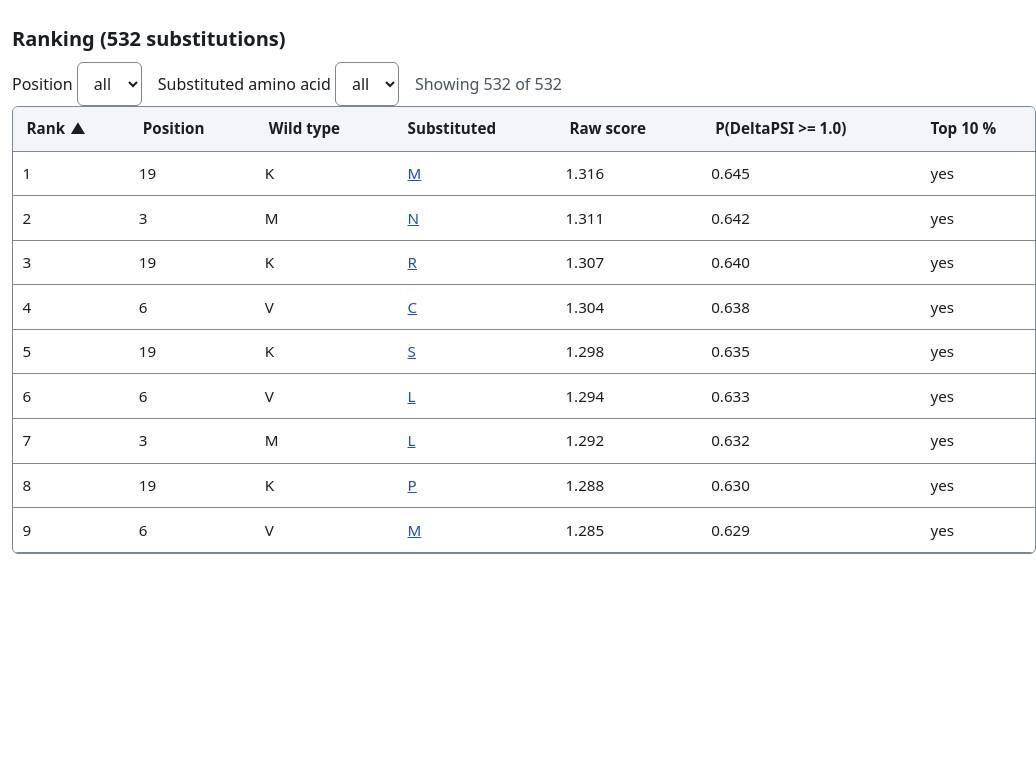
Test: RankTable (FR-07, FR-08; E2E-02) › filters by position and substituted amino acid, and says so when nothing matches
Step 1. Select "14" in the dropdown labelled "Position" → (109, 84), box [77,62,142,106]
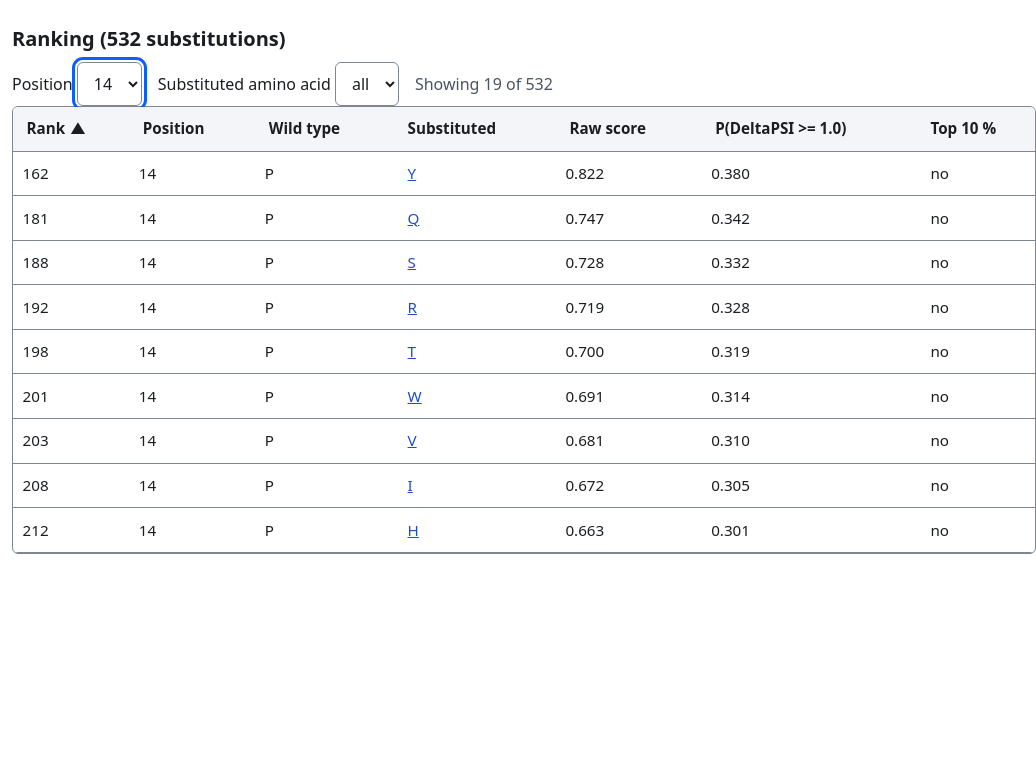
Step 2. Select "W" in the dropdown labelled "Substituted amino acid" → (367, 84), box [335,62,399,106]
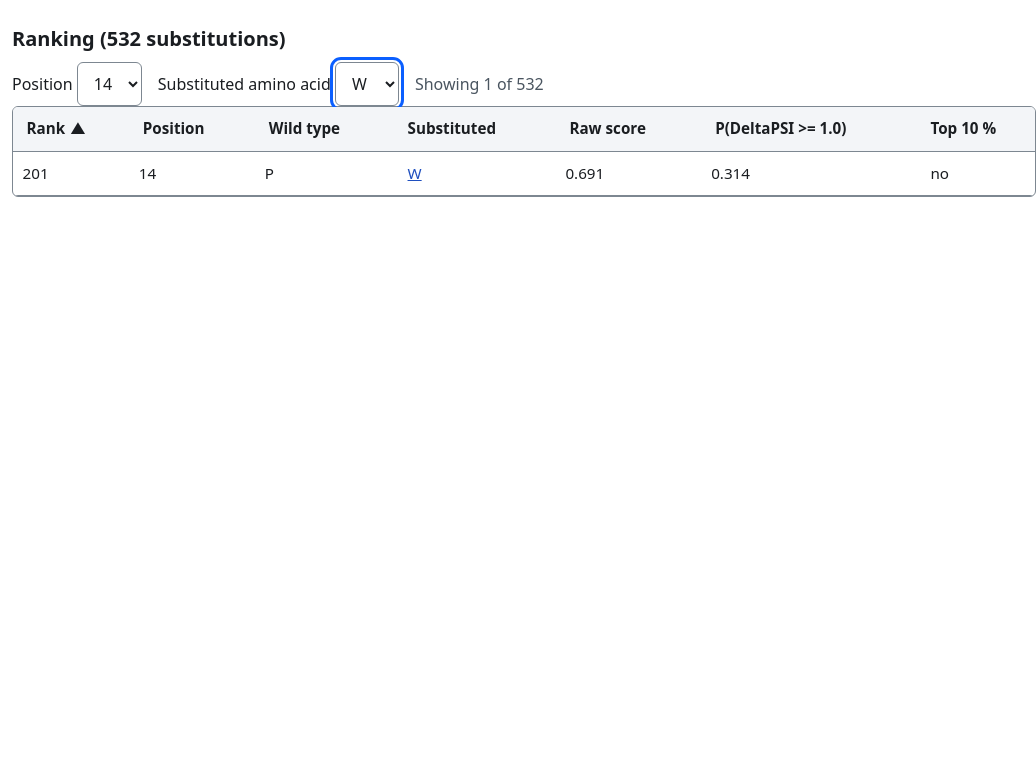
Now the cell "W" is shown, box [394,152,556,196]
Now the text "Showing 1 of 532" is shown, box [415,72,544,96]
Position 14 is P, so substituting P is not a cell: no rows.
Step 3. Select "P" in the dropdown labelled "Substituted amino acid" → (367, 84), box [335,62,399,106]
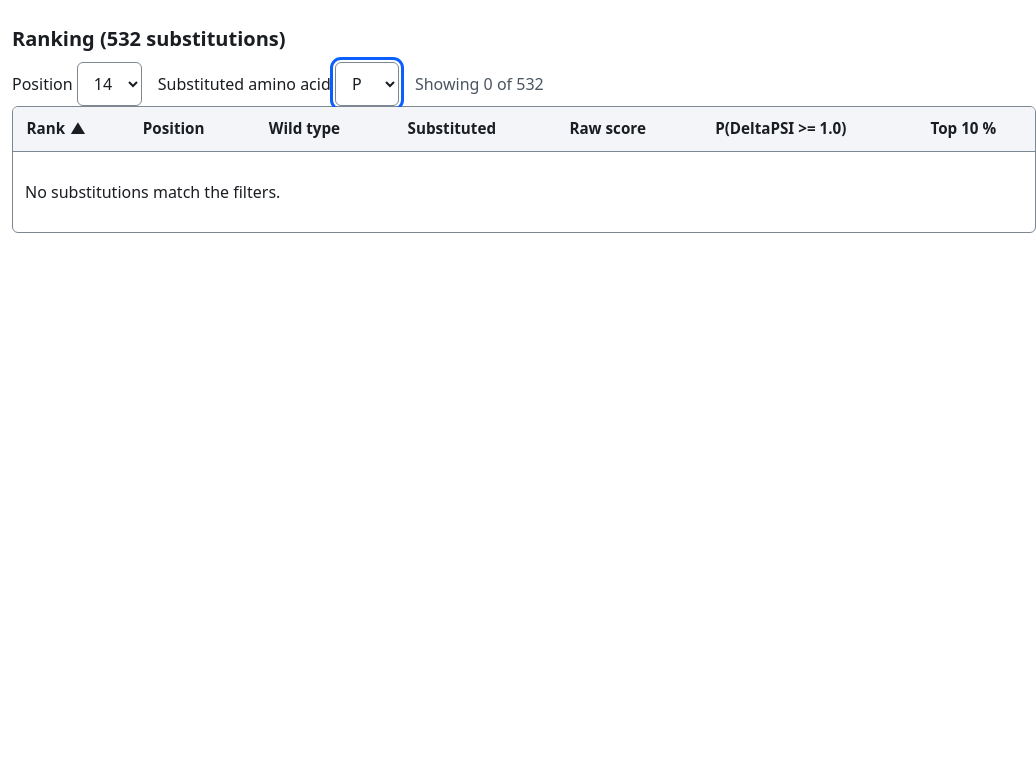
Now the text "No substitutions match the filters." is shown, box [25,181,280,203]
